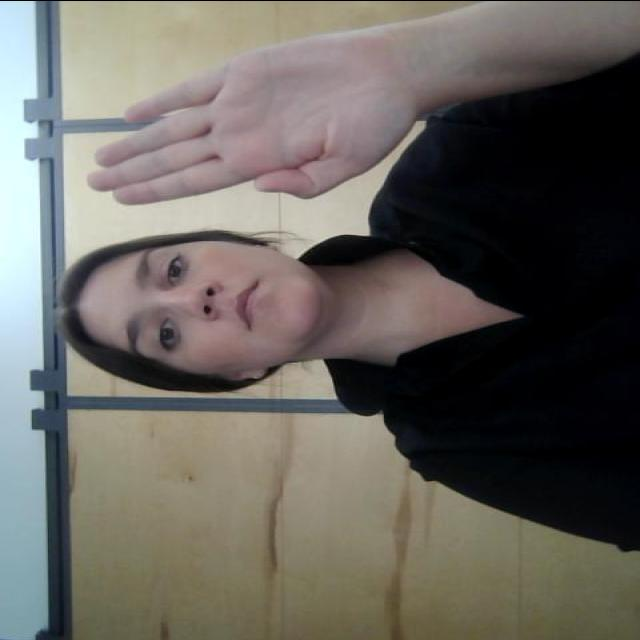Paper: (76, 16, 442, 202)
